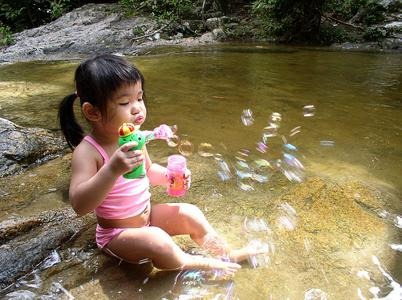person: (67, 51, 272, 285)
